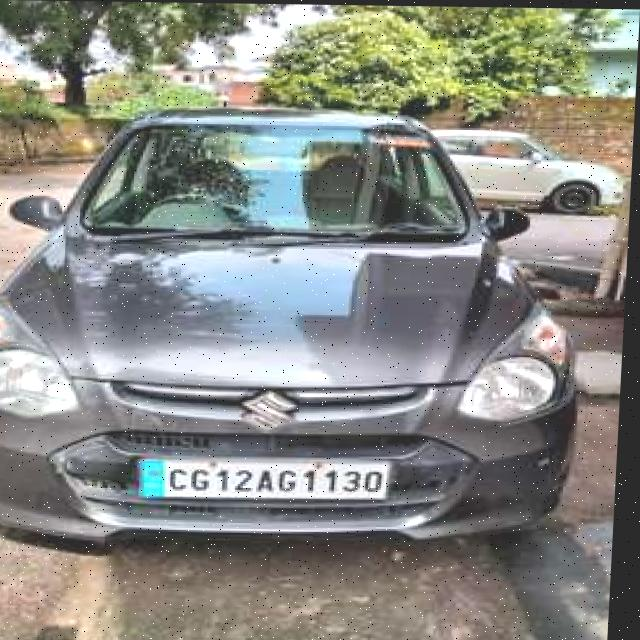plate: (137, 454, 402, 508)
